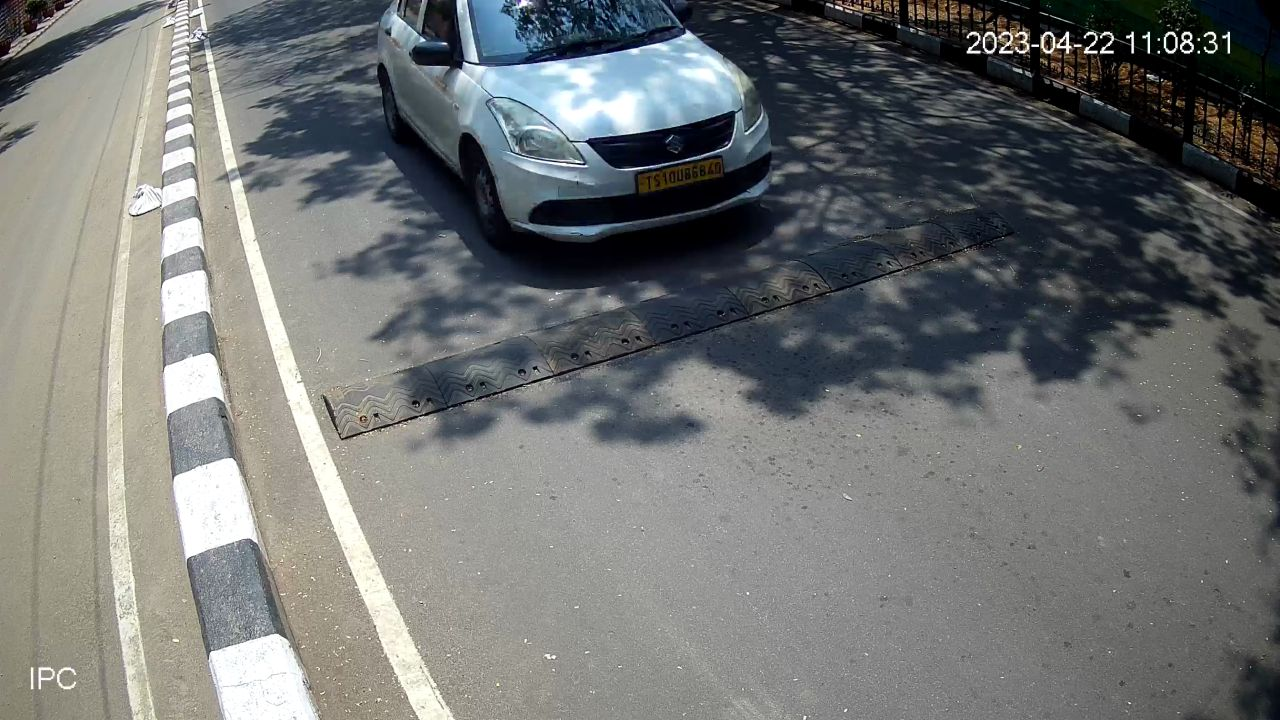license_plate: (627, 149, 730, 203)
